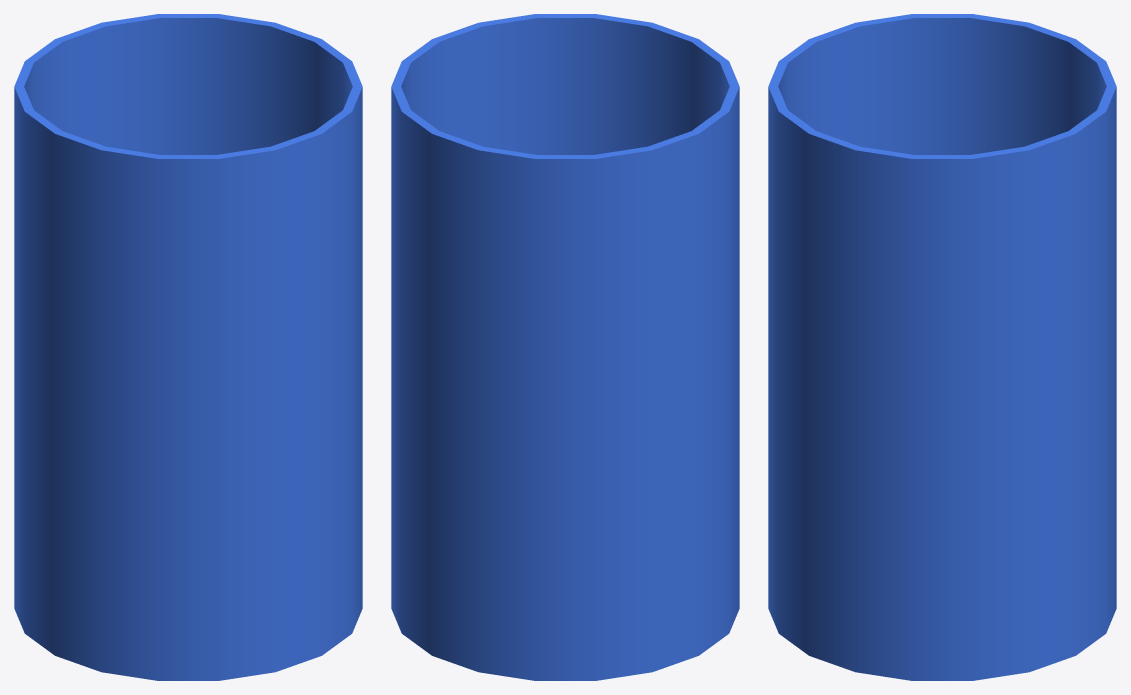
The model's file is MetalCircle.fbx.
The picture shows the model from 3 angles, left to right: view 1: azimuth 30°, elevation 25°; view 2: azimuth 150°, elevation 25°; view 3: azimuth 270°, elevation 25°; orthographic projection.
Visible parts, largest first — view 1: MetalCircle; view 2: MetalCircle; view 3: MetalCircle.
Part boxes in pixels (x1,y1,x2,y2): MetalCircle: [14, 14, 362, 680]; MetalCircle: [391, 14, 739, 680]; MetalCircle: [768, 14, 1116, 680].
Bounding box in the file's own units: 104 × 175 × 106.
